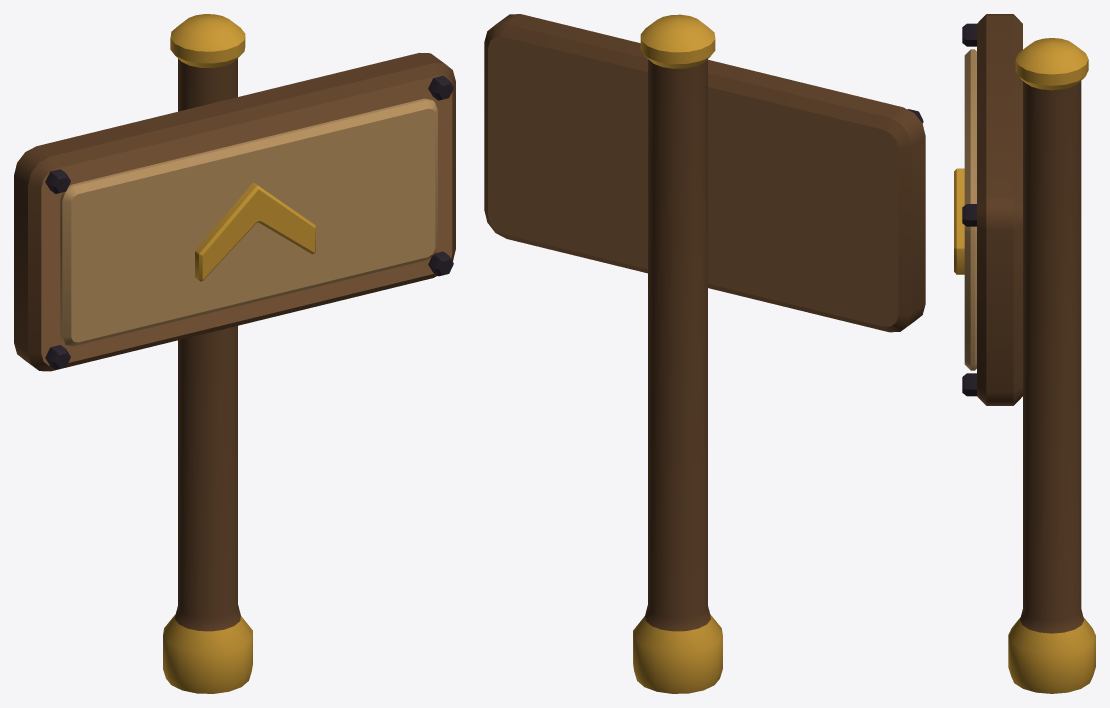
File: Sign_13.glb
3 views of the same model, side by side, from view 1: azimuth 30°, elevation 25°; view 2: azimuth 150°, elevation 25°; view 3: azimuth 270°, elevation 25° (orthographic). The views are drawn at different scales.
Parts seen in each view (by area): view 1: Sign_13; view 2: Sign_13; view 3: Sign_13.
Part boxes in pixels (x1,y1,x2,y2): Sign_13: (14,14,455,693); Sign_13: (484,14,925,693); Sign_13: (954,14,1095,693).
Bounding box in the file's own units: 2.29 × 3.35 × 0.68.
